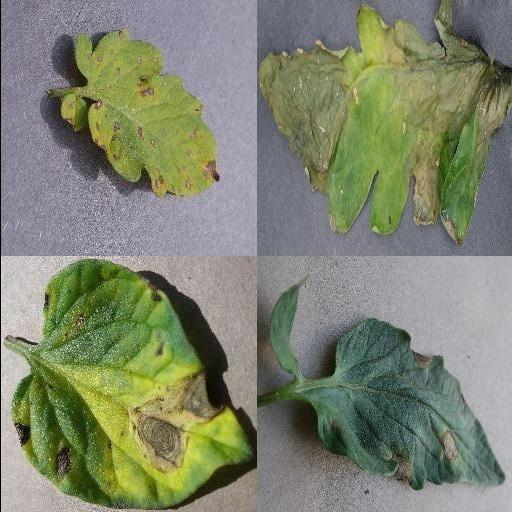Early Blight: (8, 259, 254, 509), (314, 319, 504, 491)
Late Blight: (256, 0, 512, 246)
Septoria: (73, 28, 219, 198)
